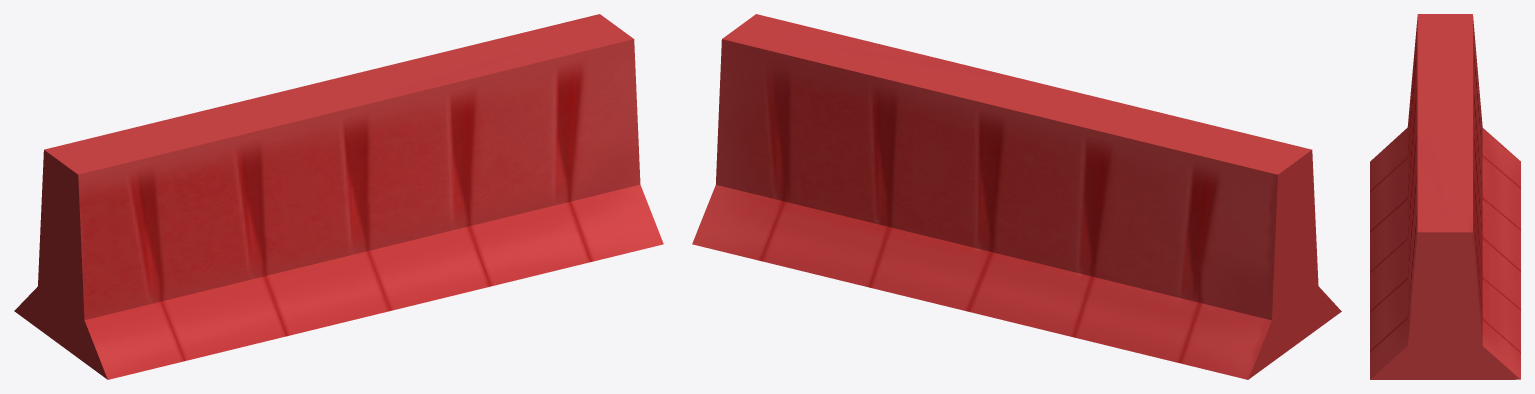
File: barricada.obj
3 views of the same model, side by side, from view 1: azimuth 30°, elevation 25°; view 2: azimuth 150°, elevation 25°; view 3: azimuth 270°, elevation 25° (orthographic). The views are drawn at different scales.
Parts seen in each view (by area): view 1: Cube; view 2: Cube; view 3: Cube.
Part boxes in pixels (box(x1,y1,x2,y2)): Cube: box(14, 14, 663, 379); Cube: box(692, 14, 1341, 379); Cube: box(1370, 14, 1520, 379).
Bounding box in the file's own units: 8.17 × 2.58 × 2.39.
